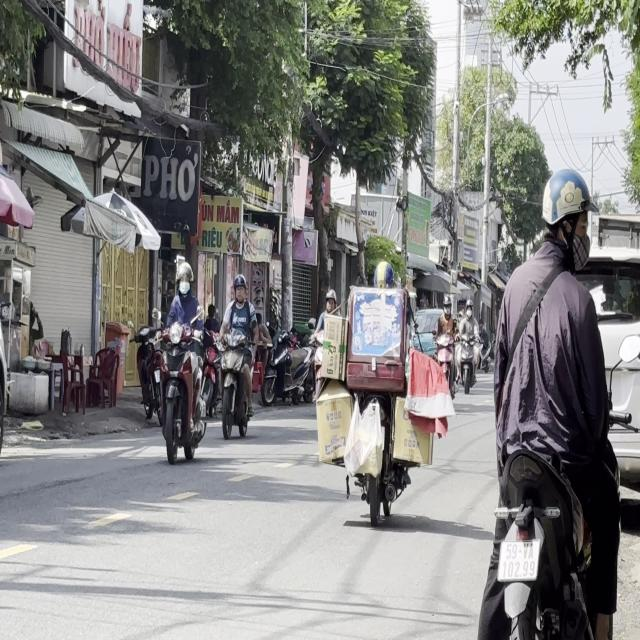helmet: (540, 164, 592, 260), (175, 260, 193, 297), (376, 260, 394, 289), (232, 272, 246, 302)
licenseplate: (471, 160, 633, 633), (339, 254, 454, 526), (158, 259, 208, 462), (216, 270, 258, 441)
nohelmet: (498, 540, 538, 579)
